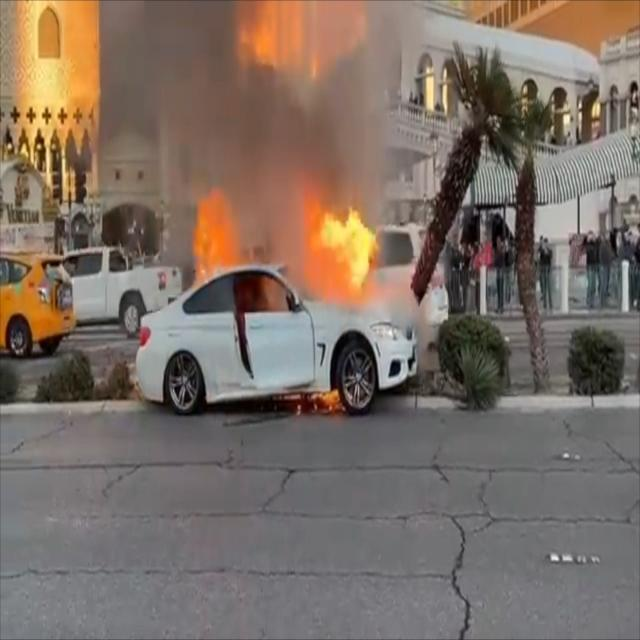fire: (187, 184, 382, 306)
